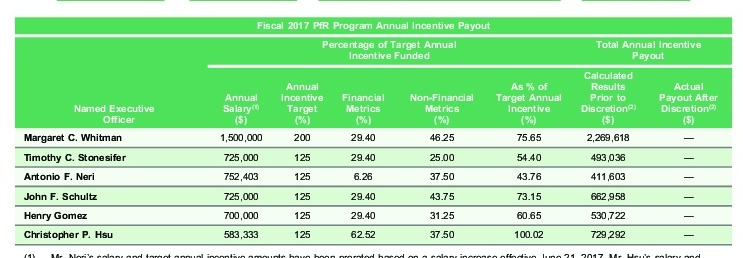table: (0, 0, 743, 258)
